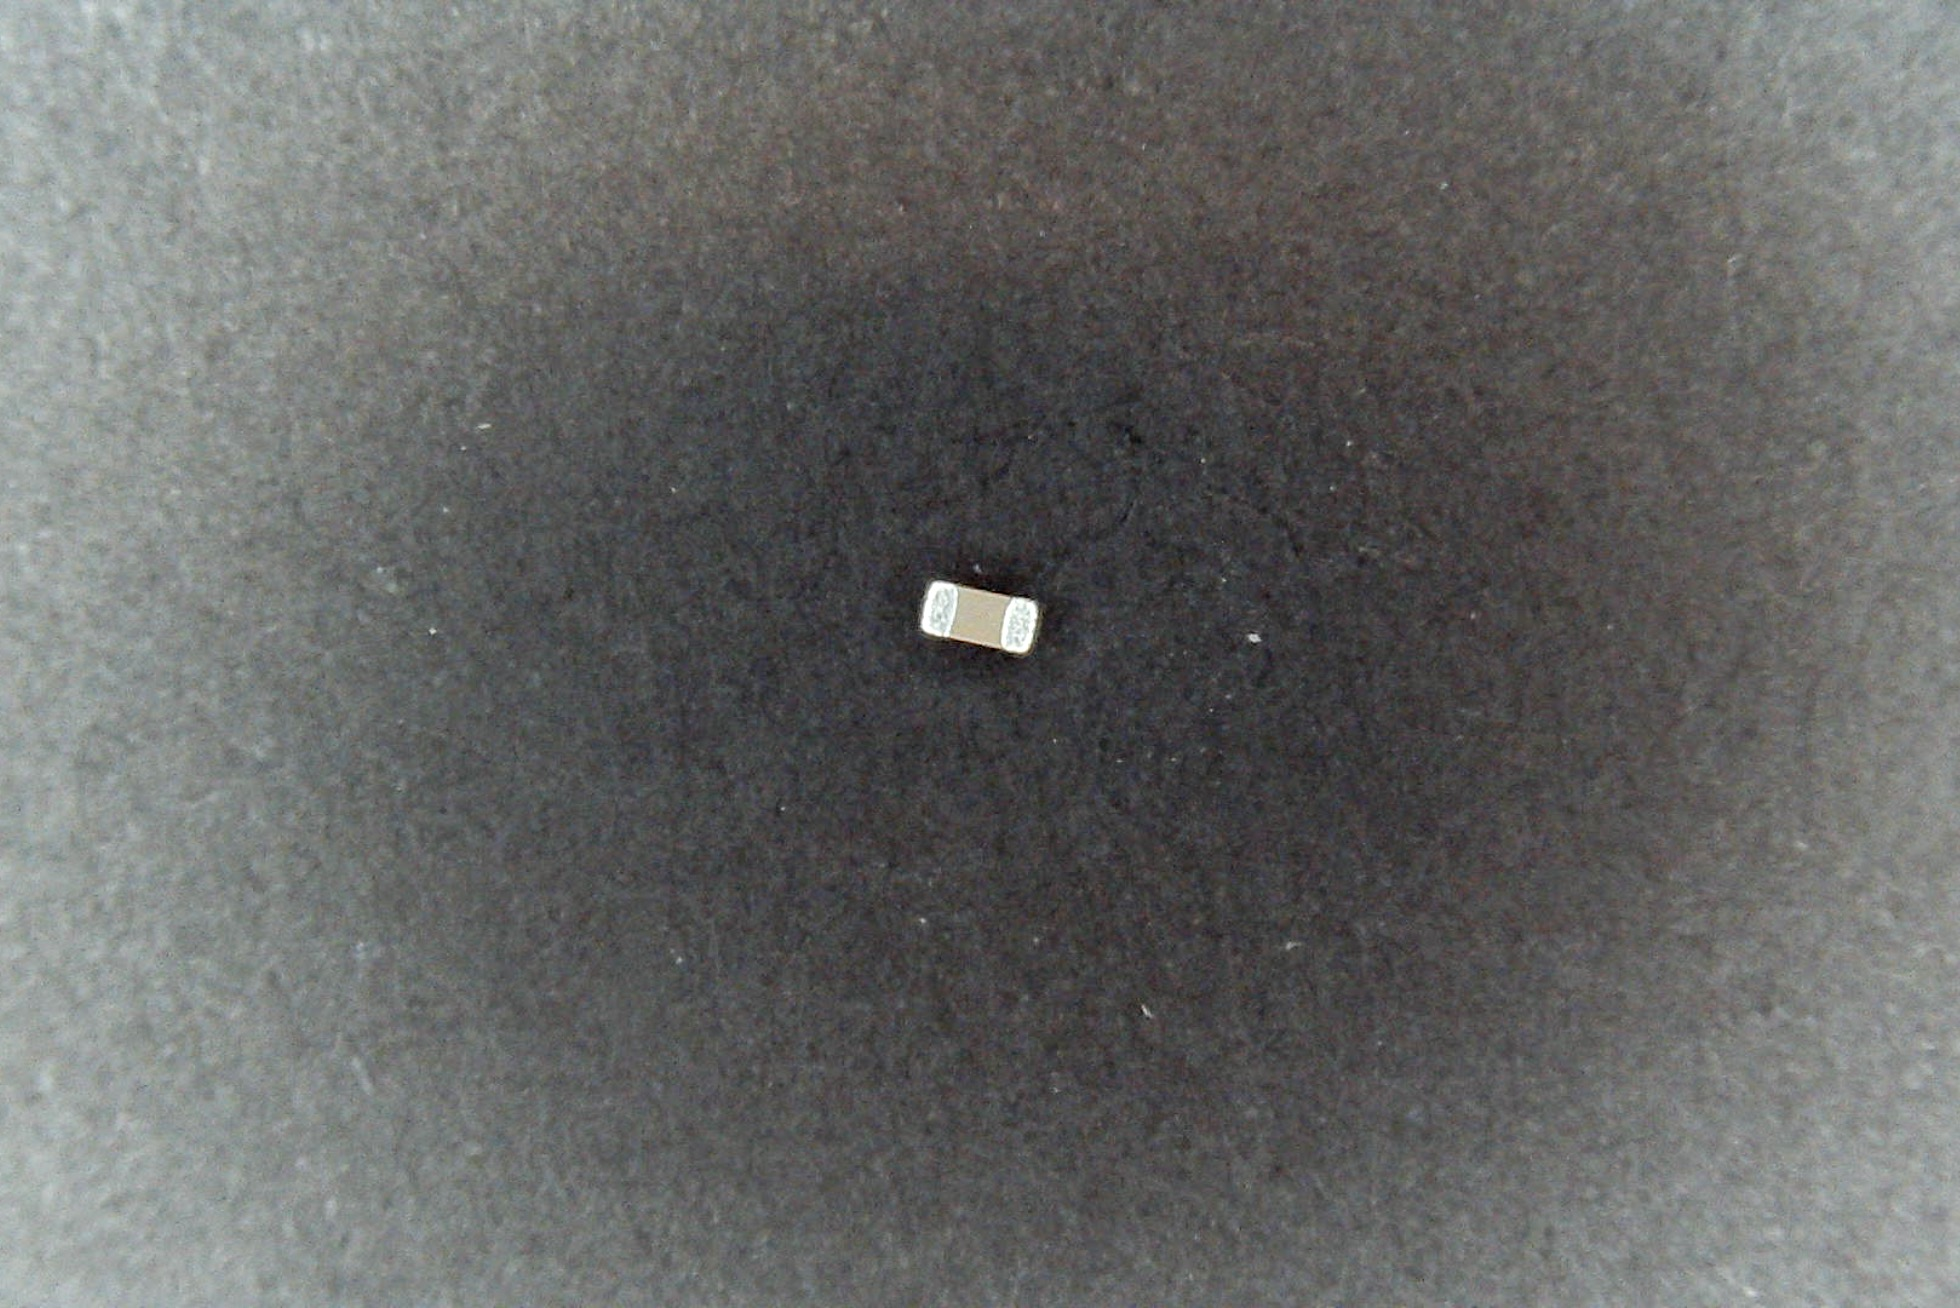bbox: (911, 569, 1054, 669)
